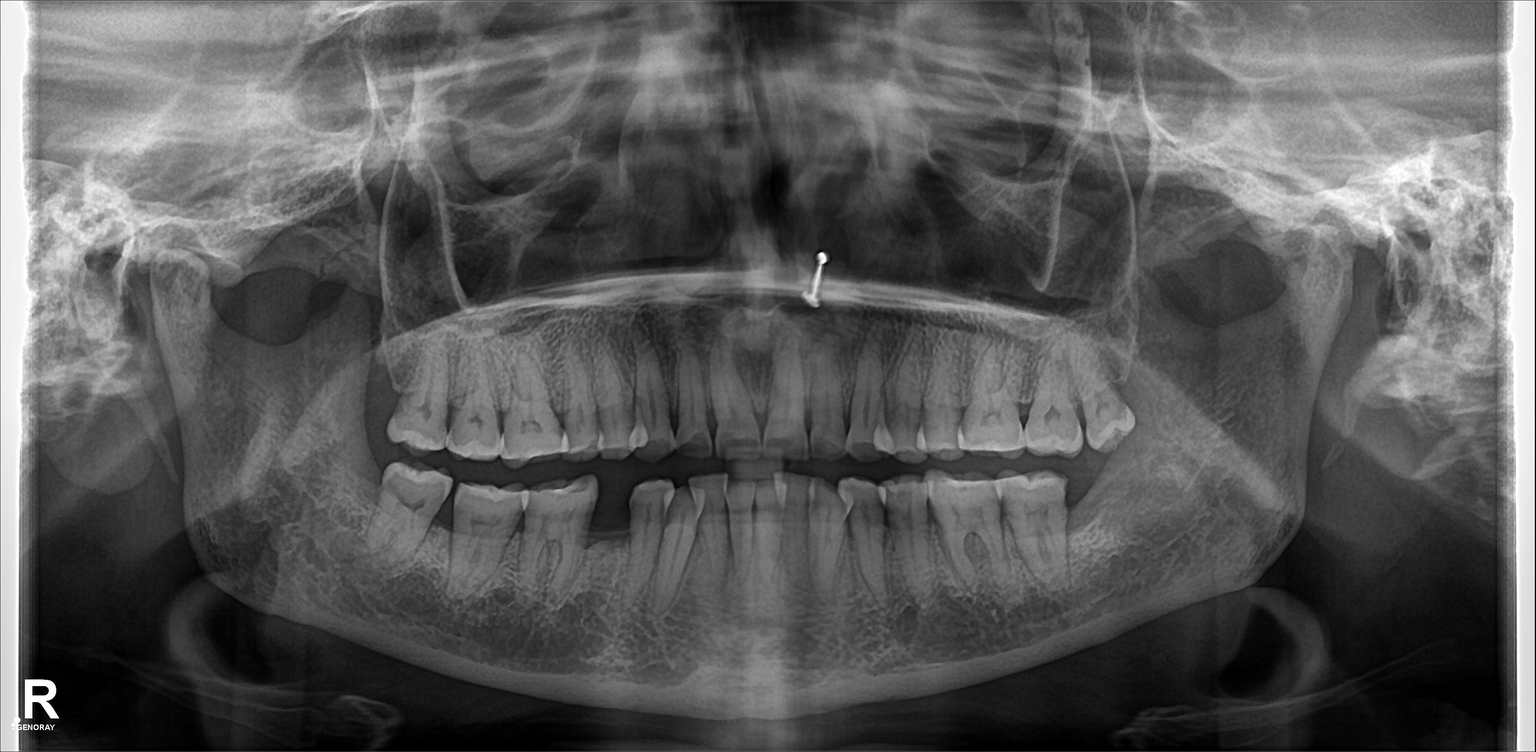Dental Caries: (674, 432, 717, 456)
Missing Tooth: (1069, 471, 1117, 559), (358, 356, 395, 439), (596, 484, 630, 570)
